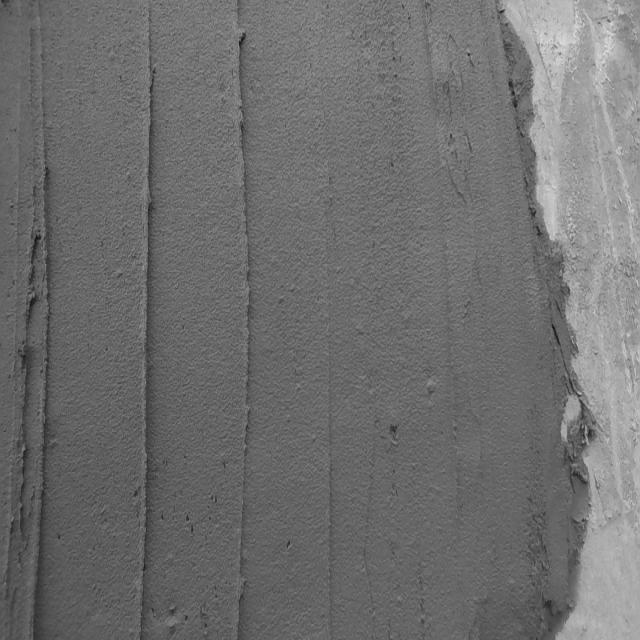trowels marks: (13, 10, 55, 640), (228, 4, 255, 640), (133, 3, 154, 640), (323, 325, 337, 635)
